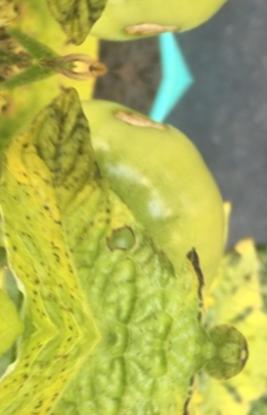Tomato Septoria leaf spot: (0, 79, 267, 365)
